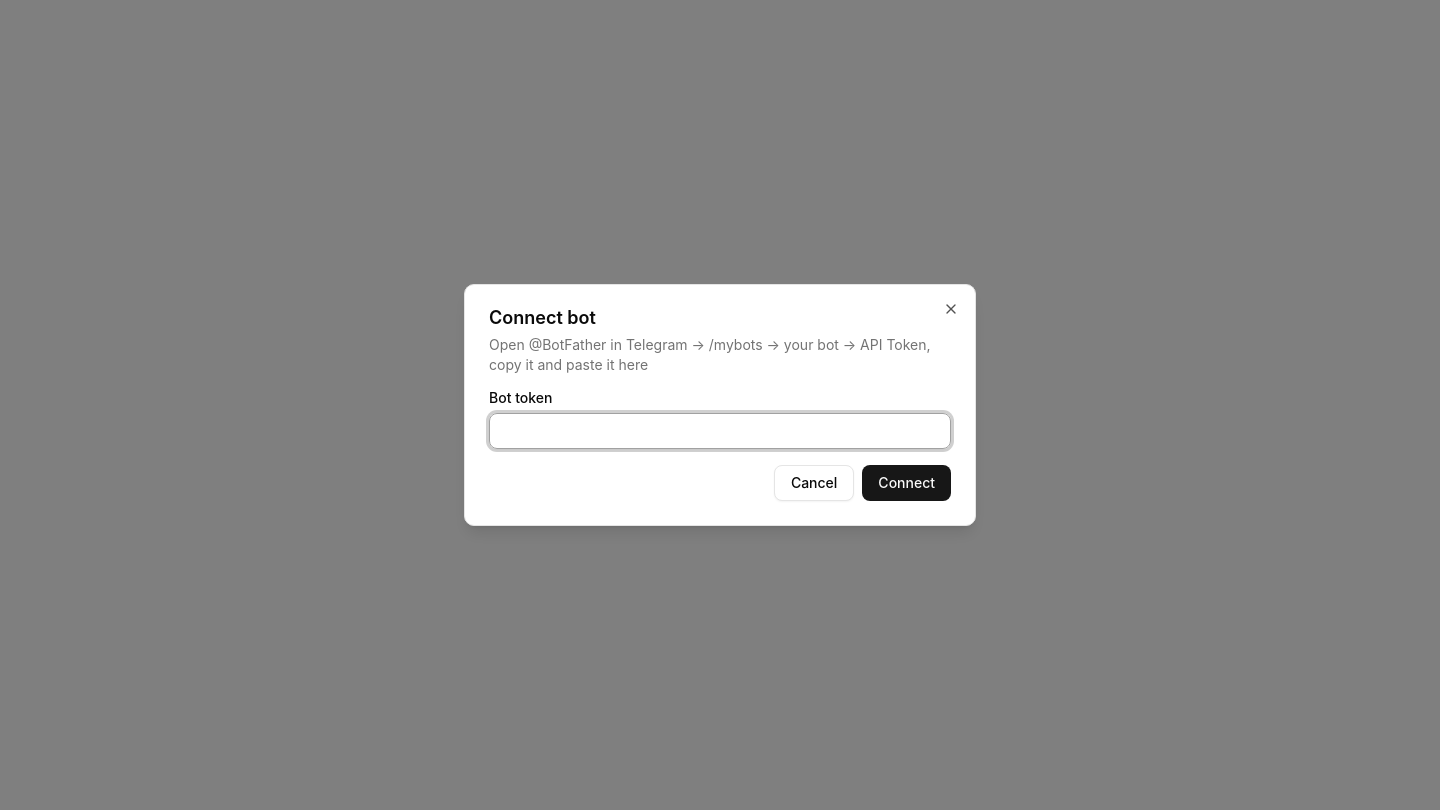
Scenario: PasteTokenDialog (SCR-03) › error: another workspace → alert with the server message, field cleared
The image size is (1440, 810).
Type "100000001:TEST-aaaaaaaaaaaaaaaaaaaaaaaaaaaaaaaaaaa" into the field labelled "Bot token".
click(720, 431); type("100000001:TEST-aaaaaaaaaaaaaaaaaaaaaaaaaaaaaaaaaaa")  # box [489, 413, 951, 449]
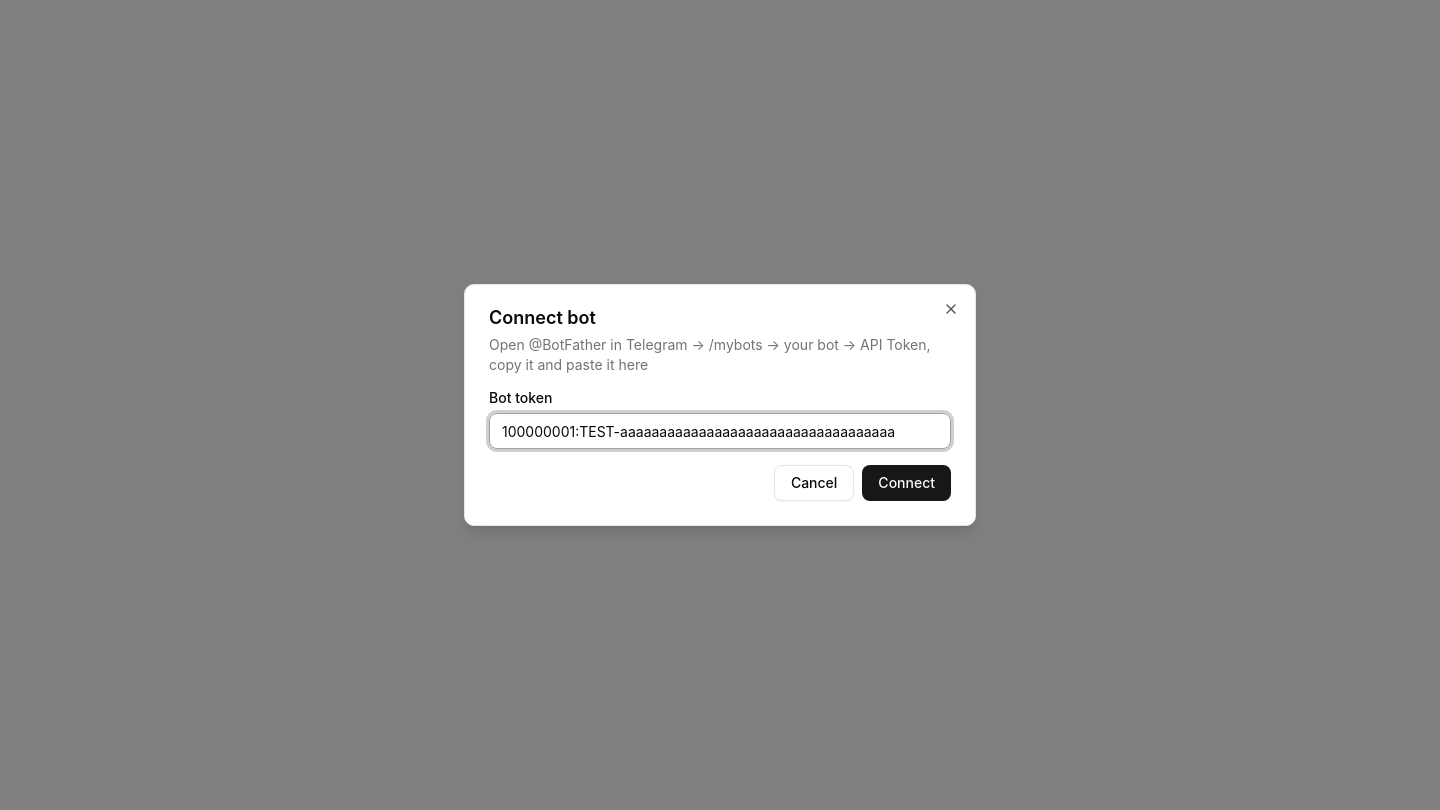
Click the button "Connect".
click(907, 483)  # box [862, 465, 951, 501]
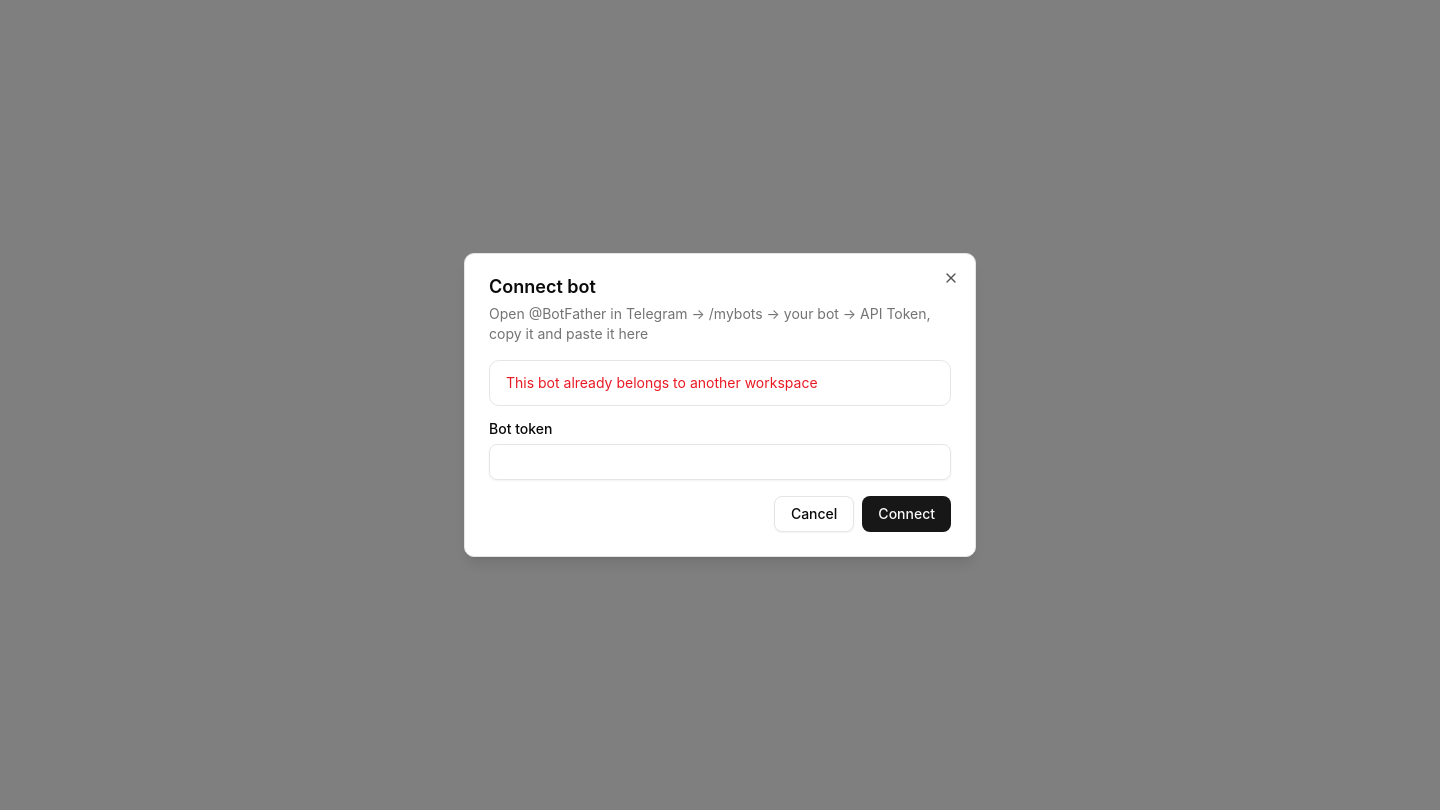
expect the message reads "This bot already belongs to another workspace": met, box [506, 374, 818, 391]
expect the field labelled "Bot token" is empty: met, box [489, 444, 951, 480]
